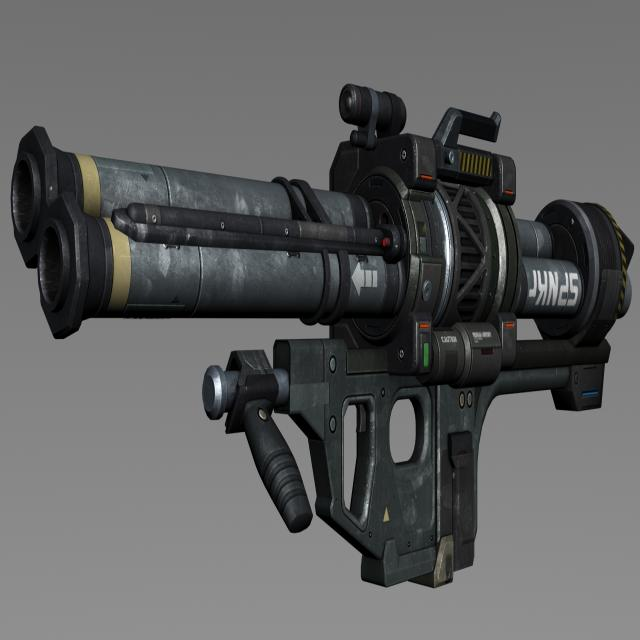bazooka: (15, 97, 624, 610)
